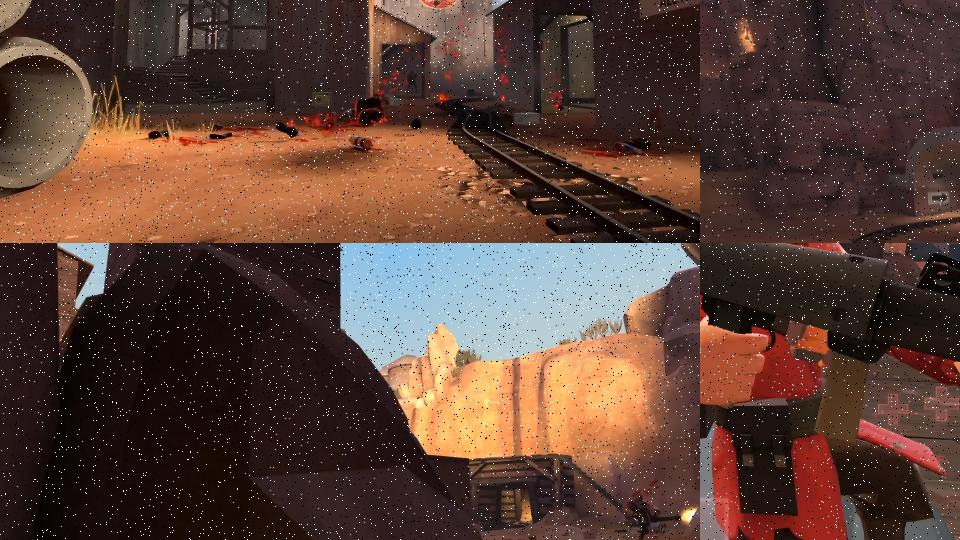Enemy: (700, 243, 960, 540), (622, 492, 681, 540)
